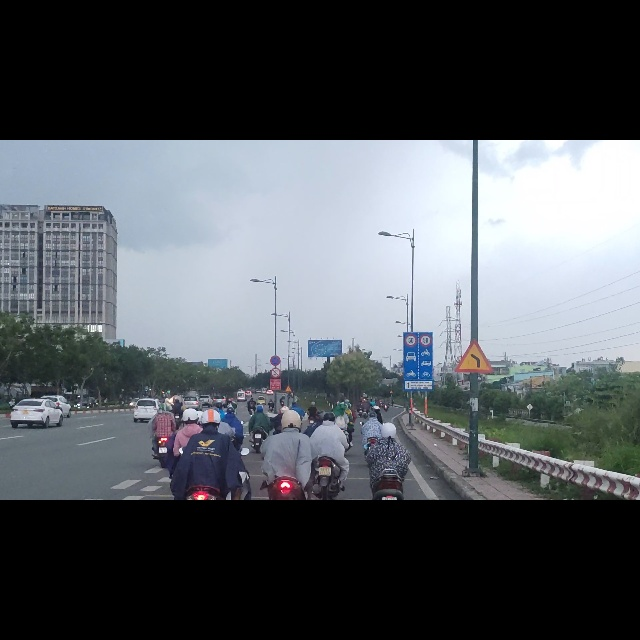bien_cam: (454, 349, 494, 414), (418, 344, 433, 368), (404, 343, 417, 369), (269, 382, 281, 402), (270, 404, 281, 424), (285, 435, 292, 449)
